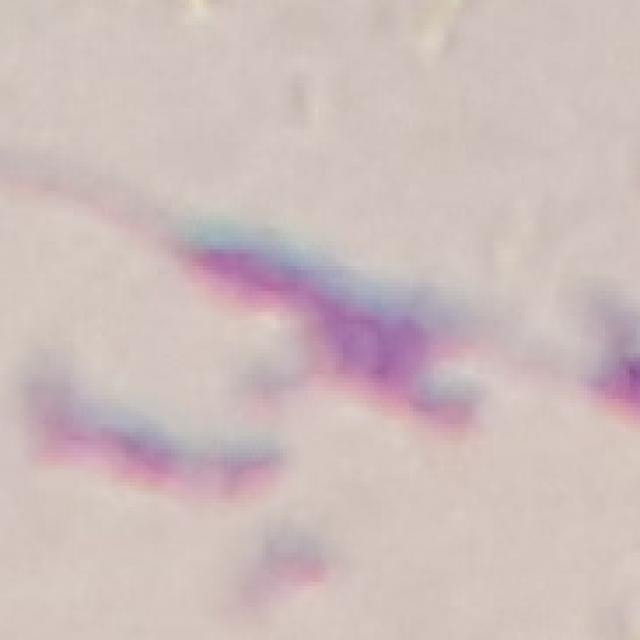non-sperm: (181, 218, 481, 430)
